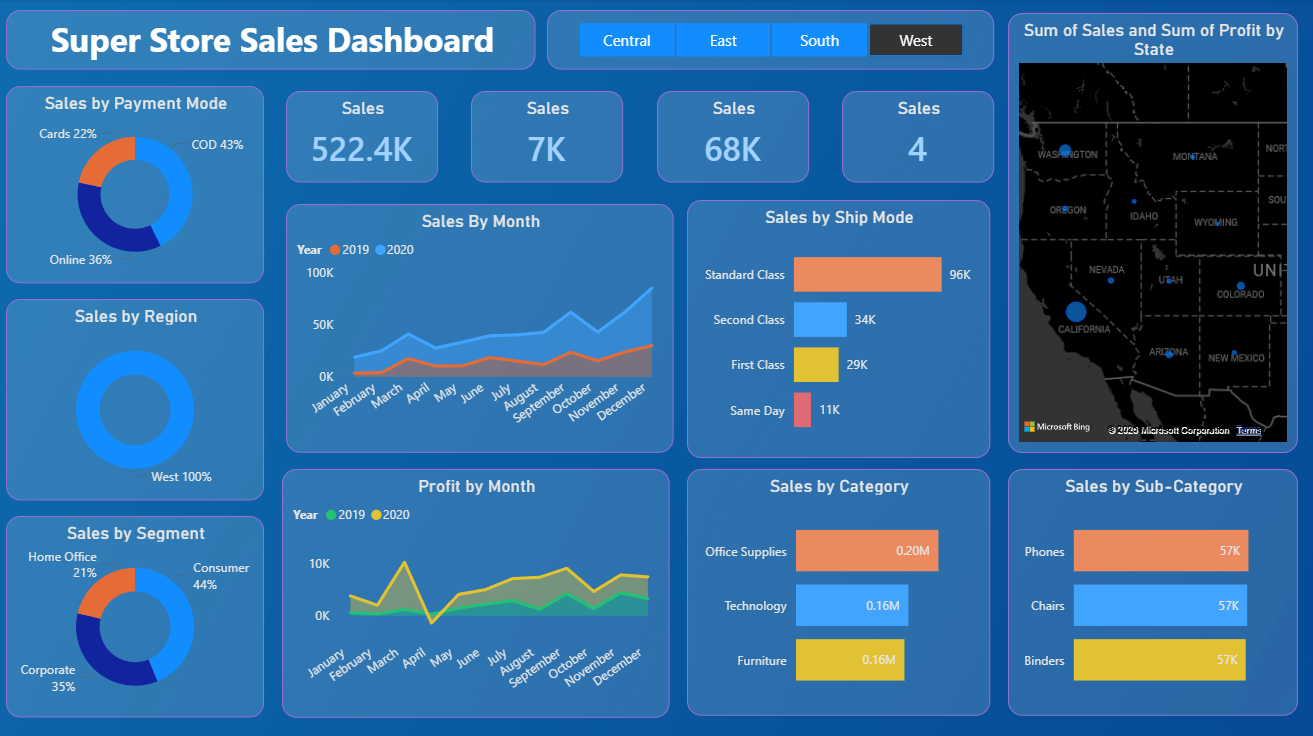

This screenshot's page, from the dashboard's own definition file:
{"tool":"powerbi","page":{"name":"Dashboard","canvas":[1280,720],"ordinal":0},"visuals":[{"type":"clusteredBarChart","title":"Sales by Category","fields":{"Category":["SuperStore_Sales_Dataset.Category"],"Y":["Sum(SuperStore_Sales_Dataset.Sales)"]},"box":[670.5,457.1,294.7,240.2],"z":0},{"type":"clusteredBarChart","title":"Sales by Sub-Category","fields":{"Category":["SuperStore_Sales_Dataset.Sub-Category"],"Y":["Sum(SuperStore_Sales_Dataset.Sales)"]},"box":[982.4,457.1,282.1,240.2],"z":1000},{"type":"clusteredBarChart","title":"Sales by Ship Mode","fields":{"Y":["Sum(SuperStore_Sales_Dataset.Sales)"],"Category":["SuperStore_Sales_Dataset.Ship Mode"]},"box":[670.2,195.5,294.7,250.9],"z":2000},{"type":"stackedAreaChart","title":"Sales By Month","fields":{"Y":["Sum(SuperStore_Sales_Dataset.Sales)"],"Category":["SuperStore_Sales_Dataset.Order Date.Variation.Date Hierarchy.Month","SuperStore_Sales_Dataset.Order Date.Variation.Date Hierarchy.Day"],"Series":["SuperStore_Sales_Dataset.Order Date.Variation.Date Hierarchy.Year"]},"box":[280.1,199.4,377.4,242.2],"z":3000},{"type":"stackedAreaChart","title":"Profit by Month","fields":{"Category":["SuperStore_Sales_Dataset.Order Date.Variation.Date Hierarchy.Month","SuperStore_Sales_Dataset.Order Date.Variation.Date Hierarchy.Day"],"Series":["SuperStore_Sales_Dataset.Order Date.Variation.Date Hierarchy.Year"],"Y":["Sum(SuperStore_Sales_Dataset.Profit)"]},"box":[275.9,457.1,377.4,242.2],"z":4000},{"type":"map","fields":{"Category":["SuperStore_Sales_Dataset.State"],"Size":["Sum(SuperStore_Sales_Dataset.Sales)"]},"box":[982.4,13.6,282.1,428],"z":5000},{"type":"donutChart","title":"Sales by Segment","fields":{"Category":["SuperStore_Sales_Dataset.Segment"],"Y":["Sum(SuperStore_Sales_Dataset.Sales)"]},"box":[7.8,502.9,250.9,196.5],"z":6000},{"type":"donutChart","title":"Sales by Payment Mode","fields":{"Category":["SuperStore_Sales_Dataset.Payment Mode"],"Y":["Sum(SuperStore_Sales_Dataset.Sales)"]},"box":[7.8,84.6,250.9,191.6],"z":7000},{"type":"donutChart","title":"Sales by Region","fields":{"Category":["SuperStore_Sales_Dataset.Region"],"Y":["Sum(SuperStore_Sales_Dataset.Sales)"]},"box":[7.8,291.3,250.9,196.5],"z":8000},{"type":"slicer","fields":{"Values":["SuperStore_Sales_Dataset.Region"]},"box":[534,10.7,434.8,58.4],"z":9000},{"type":"textbox","box":[7.8,10.7,514.5,58.4],"z":10000},{"type":"cardVisual","title":"Sales","fields":{"Data":["Sum(SuperStore_Sales_Dataset.Sales)"]},"box":[280.1,89.5,147.8,88.5],"z":11000},{"type":"cardVisual","title":"Sales","fields":{"Data":["Sum(SuperStore_Sales_Dataset.Quantity)"]},"box":[460.4,89.5,147.8,88.5],"z":12000},{"type":"cardVisual","title":"Sales","fields":{"Data":["Sum(SuperStore_Sales_Dataset.Profit)"]},"box":[640.6,89.5,147.8,88.5],"z":13000},{"type":"cardVisual","title":"Sales","fields":{"Data":["Avg(SuperStore_Sales_Dataset.AvgDelivery)"]},"box":[820.9,89.5,147.8,88.5],"z":14000}]}

Visuals, with their boxes in screenshot pixels (x1, y1, x2, y2), scaled from the page's 1280x720 canvas onto the 1313x736 screenshot:
"Sales by Category" clusteredBarChart: x1=688 y1=467 x2=990 y2=713
"Sales by Sub-Category" clusteredBarChart: x1=1008 y1=467 x2=1297 y2=713
"Sales by Ship Mode" clusteredBarChart: x1=687 y1=200 x2=990 y2=456
"Sales By Month" stackedAreaChart: x1=287 y1=204 x2=674 y2=451
"Profit by Month" stackedAreaChart: x1=283 y1=467 x2=670 y2=715
map - SuperStore_Sales_Dataset.State x Sum(SuperStore_Sales_Dataset.Sales): x1=1008 y1=14 x2=1297 y2=451
"Sales by Segment" donutChart: x1=8 y1=514 x2=265 y2=715
"Sales by Payment Mode" donutChart: x1=8 y1=86 x2=265 y2=282
"Sales by Region" donutChart: x1=8 y1=298 x2=265 y2=499
slicer - SuperStore_Sales_Dataset.Region: x1=548 y1=11 x2=994 y2=71
textbox: x1=8 y1=11 x2=536 y2=71
"Sales" cardVisual: x1=287 y1=91 x2=439 y2=182
"Sales" cardVisual: x1=472 y1=91 x2=624 y2=182
"Sales" cardVisual: x1=657 y1=91 x2=809 y2=182
"Sales" cardVisual: x1=842 y1=91 x2=994 y2=182
